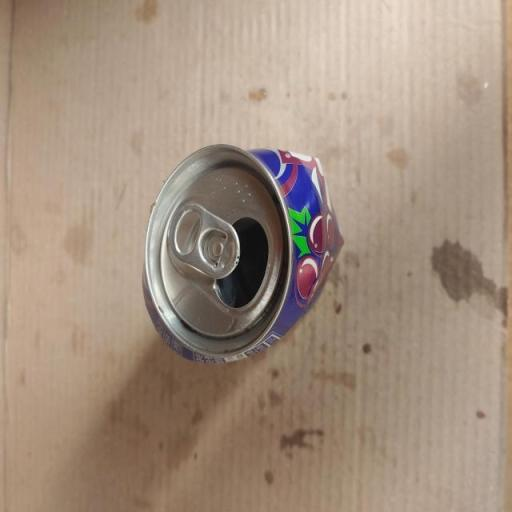metal: (126, 124, 360, 394)
